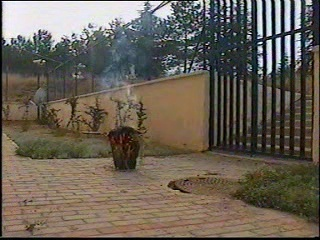smoke: (94, 13, 162, 96)
